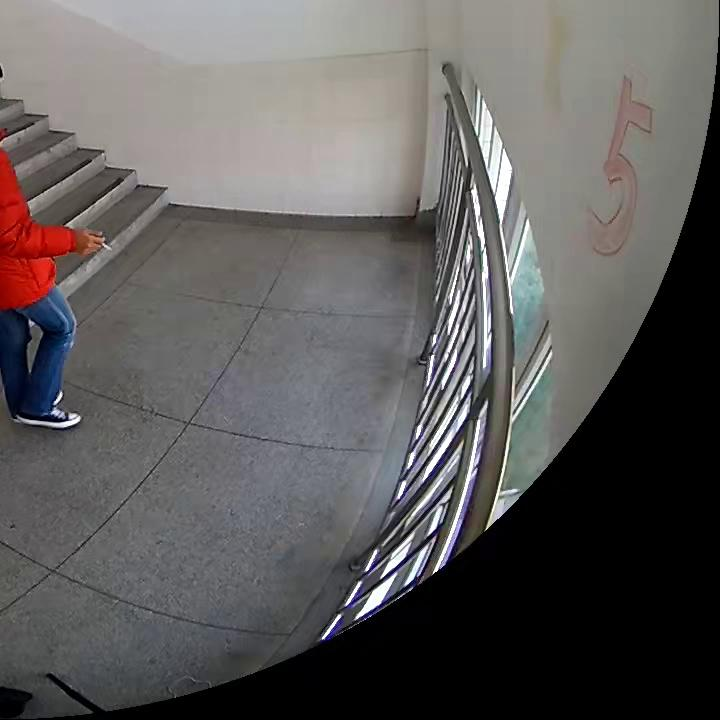handsmoke: (75, 225, 112, 259)
